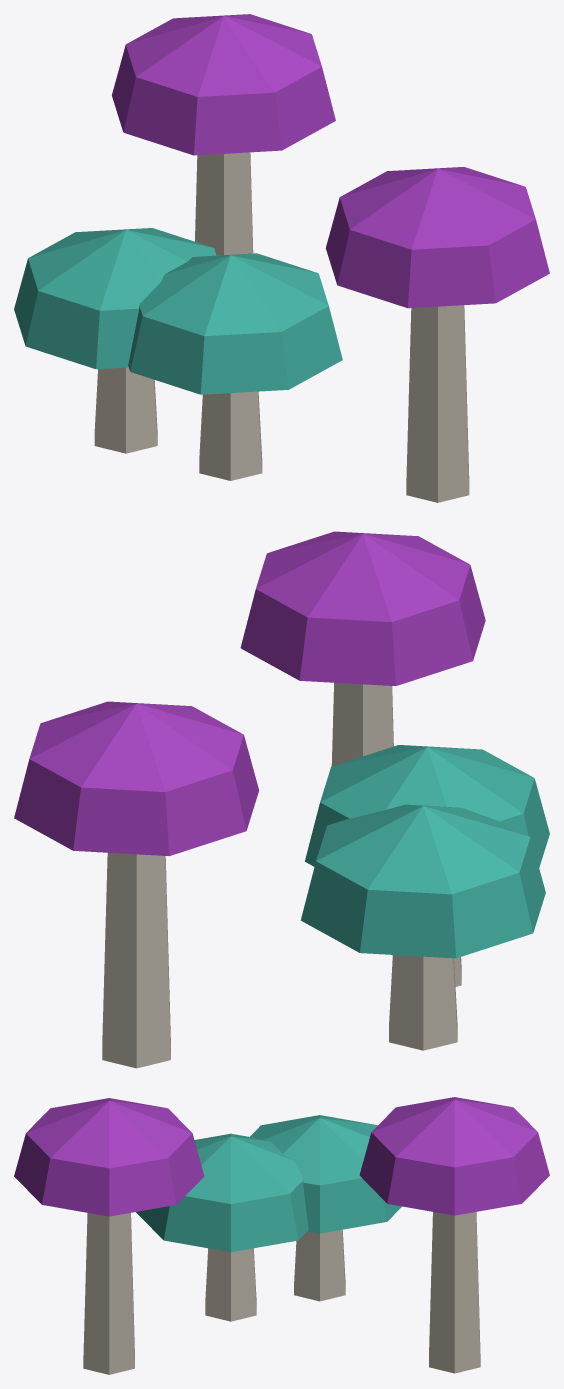
File: p_mushroom.glb
The picture shows the model from 3 angles, top to bottom: view 1: azimuth 30°, elevation 25°; view 2: azimuth 150°, elevation 25°; view 3: azimuth 270°, elevation 25°; orthographic projection. The views are drawn at different scales.
Visible parts, largest first — view 1: p_mushroom; view 2: p_mushroom; view 3: p_mushroom.
Boxes of the visible parts, box(x1,y1,x2,y2) form: p_mushroom: box(14, 14, 549, 502); p_mushroom: box(14, 531, 549, 1068); p_mushroom: box(14, 1097, 549, 1374).
Bounding box in the file's own units: 0.3059 × 0.2424 × 0.4502.
